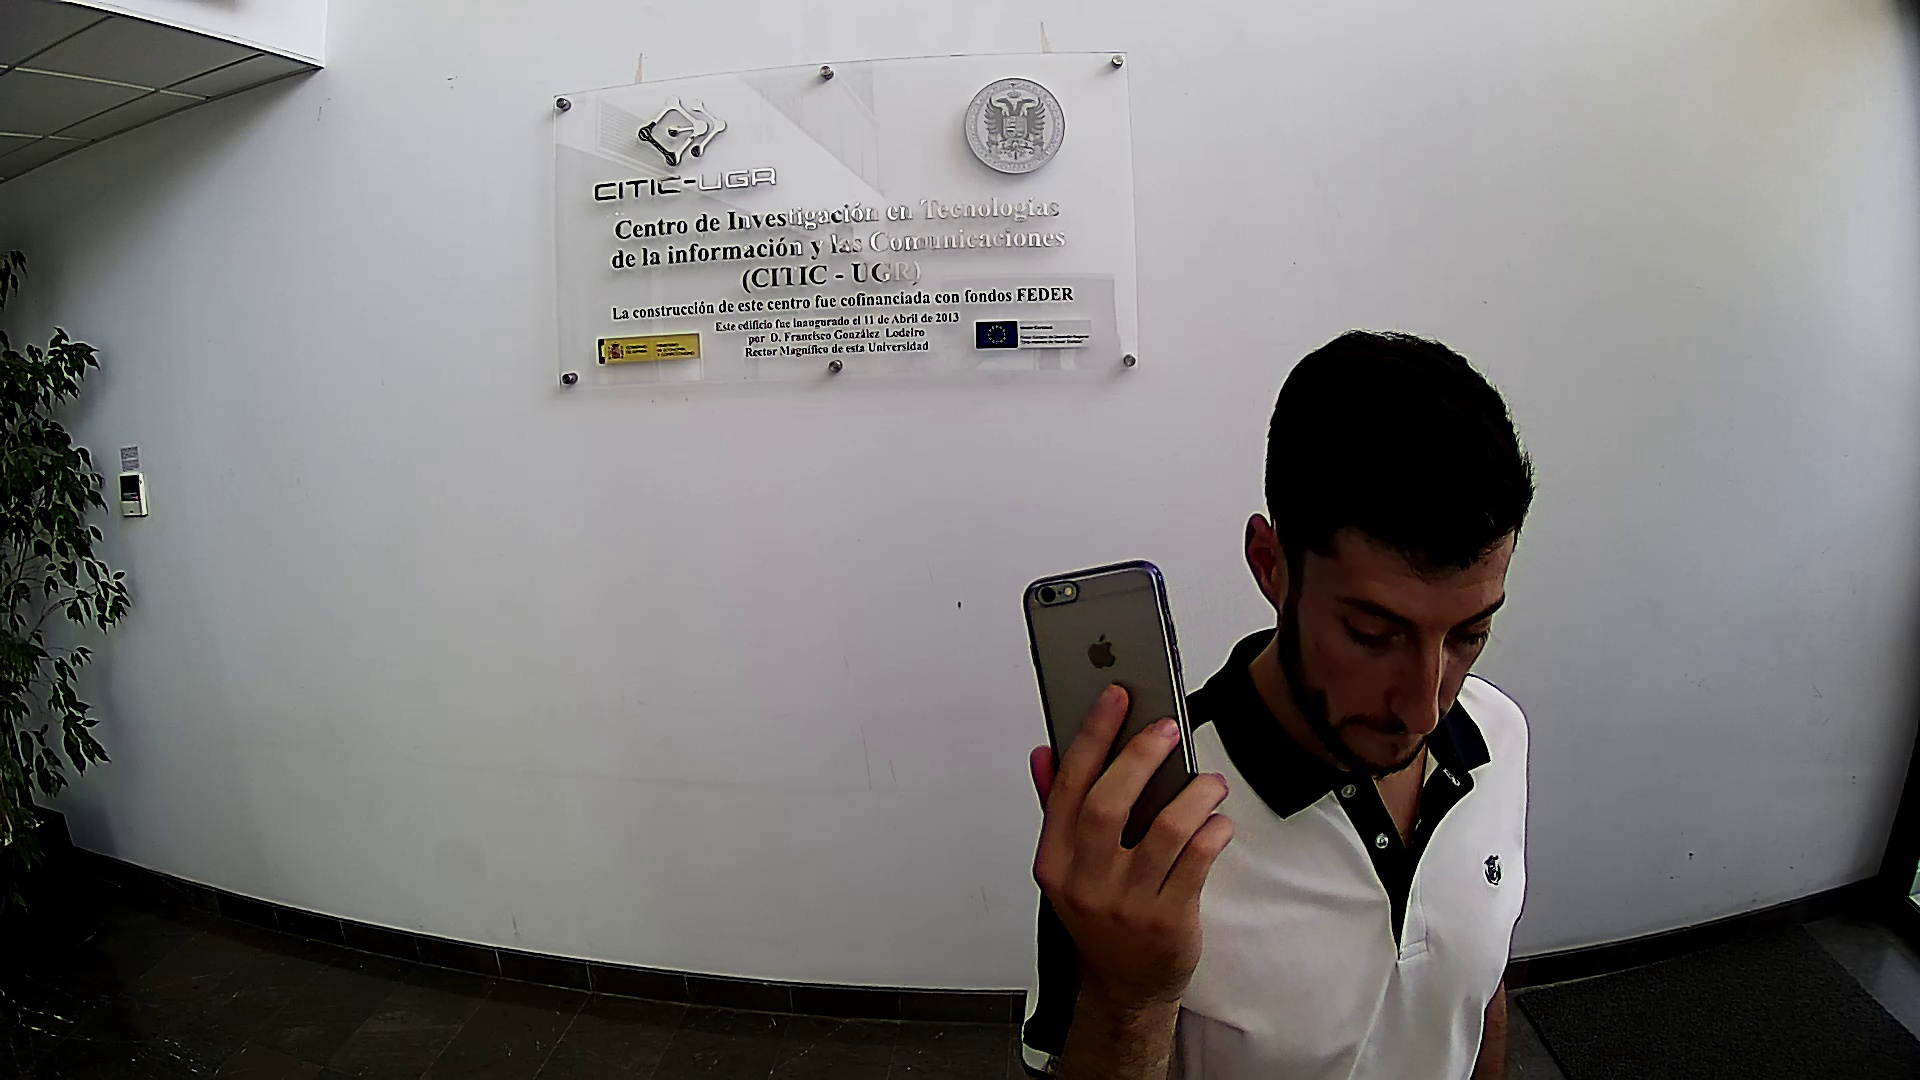smartphone: (1022, 559, 1200, 851)
